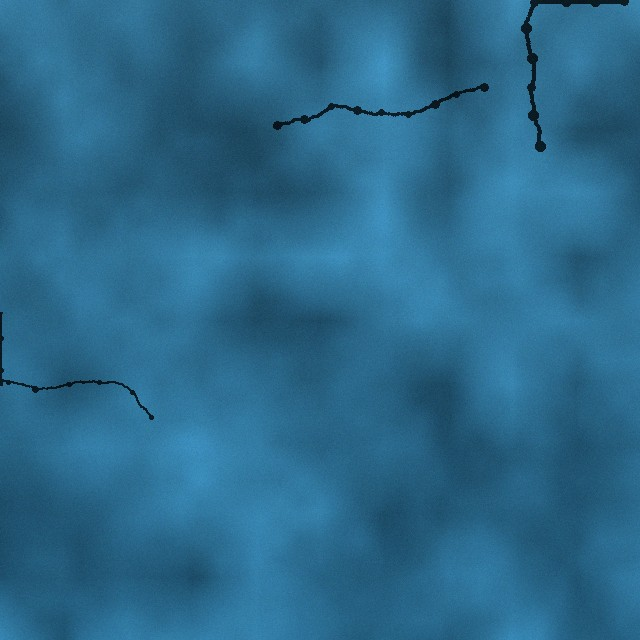crack: (0, 308, 155, 421), (519, 0, 630, 152), (268, 81, 489, 131)
